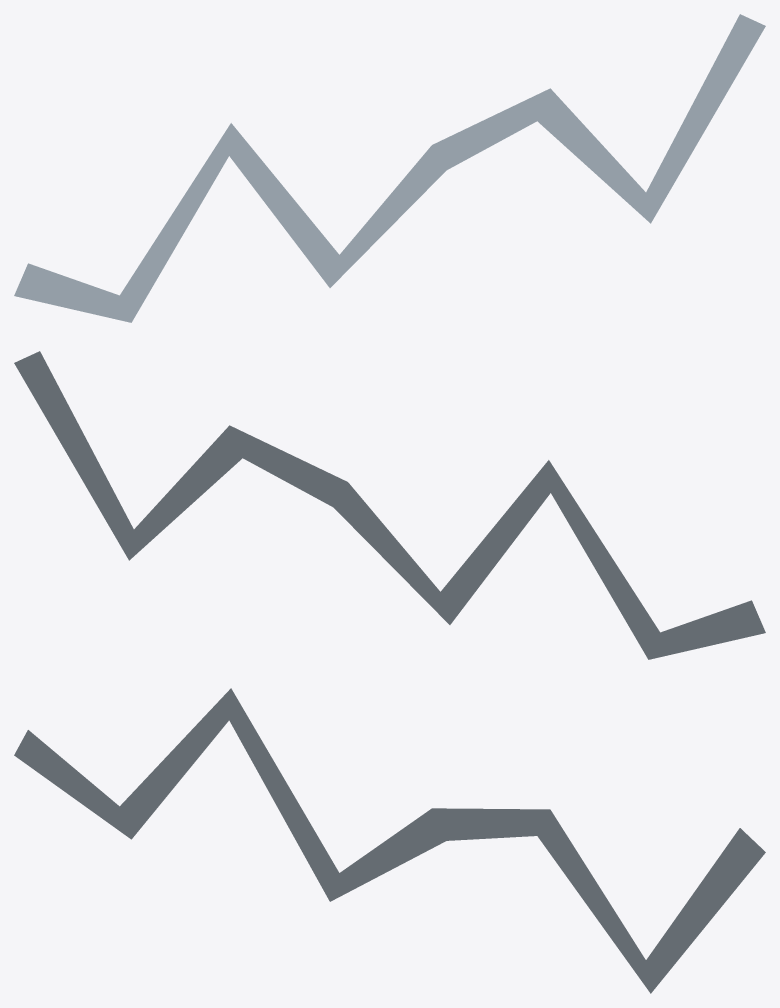
File: ElementalGround_Electro_GroundArc66.fbx
The picture shows the model from 3 angles, top to bottom: view 1: azimuth 30°, elevation 25°; view 2: azimuth 150°, elevation 25°; view 3: azimuth 330°, elevation 25°; orthographic projection.
Visible parts, largest first — view 1: PART_GroundArc66; view 2: PART_GroundArc66; view 3: PART_GroundArc66.
Part boxes in pixels (x1=…): PART_GroundArc66: x1=14, y1=14, x2=765, y2=322; PART_GroundArc66: x1=14, y1=351, x2=765, y2=659; PART_GroundArc66: x1=14, y1=688, x2=765, y2=993.
Size of the model in its own units: 71.92 by 18.59 by 3.03e-06.
